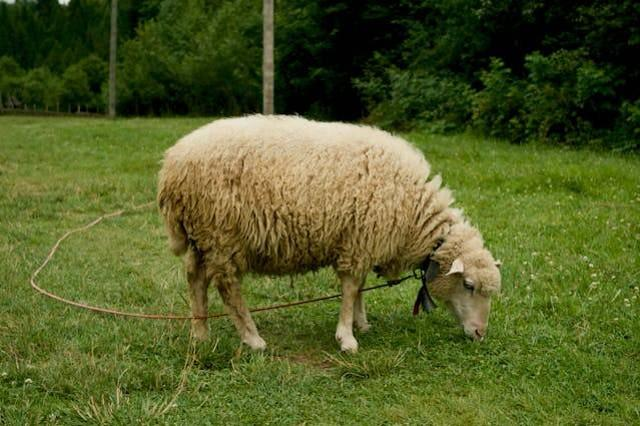Sheep: (414, 214, 512, 342)
